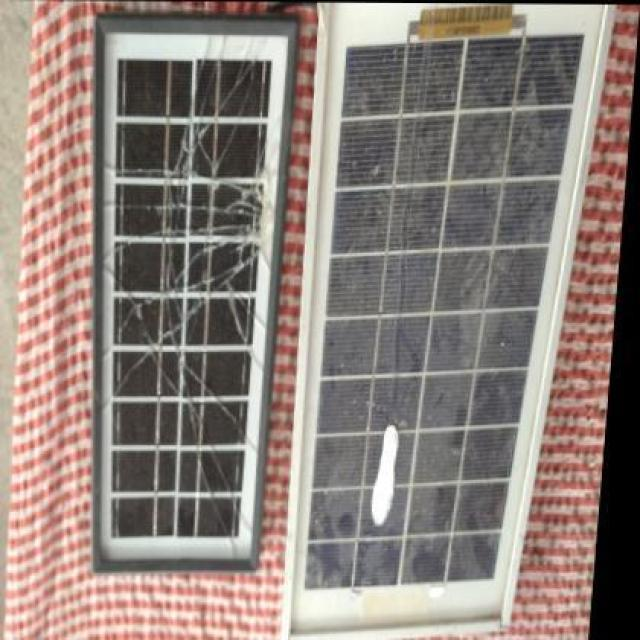cracked: (92, 14, 294, 572)
soiled: (285, 7, 614, 638)
